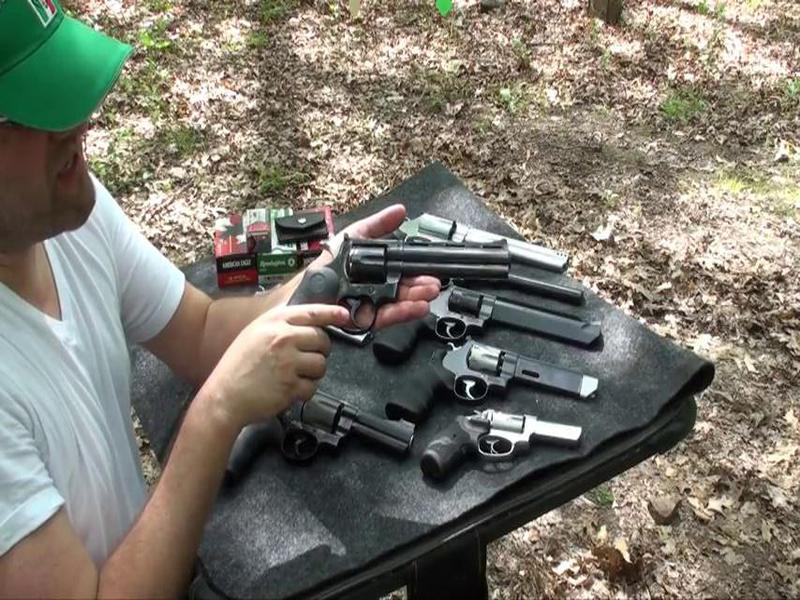Revolver: (263, 208, 505, 361)
